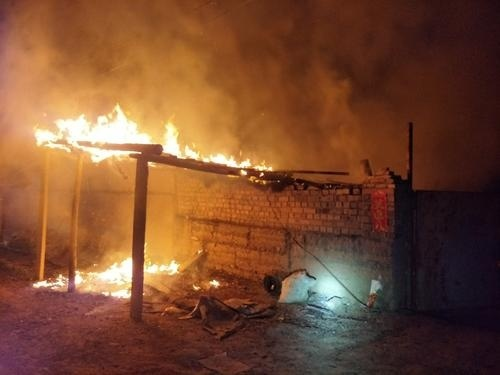fire: (34, 101, 258, 171), (31, 251, 182, 297), (147, 255, 181, 275)
